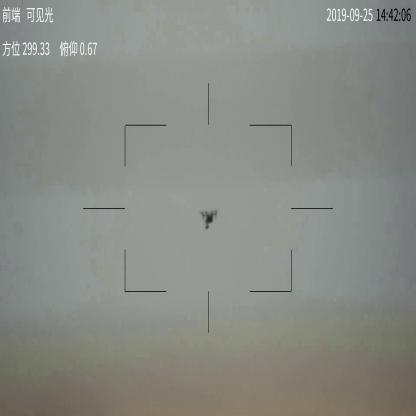uav: (199, 208, 222, 232)
